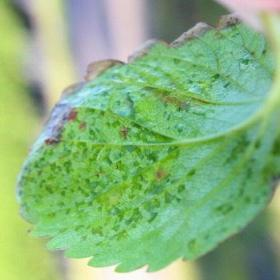Angular Leafspot: (15, 12, 279, 273)
